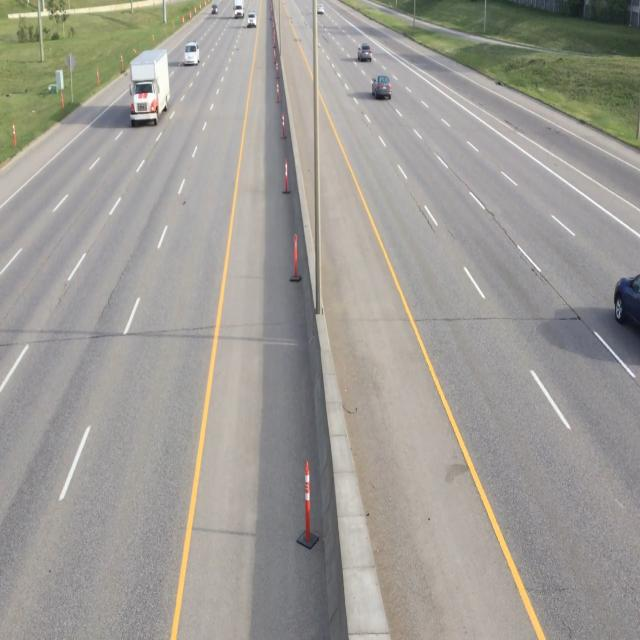Car: (129, 50, 172, 124), (371, 74, 394, 101), (182, 38, 200, 69), (356, 38, 375, 66), (248, 10, 257, 28)
